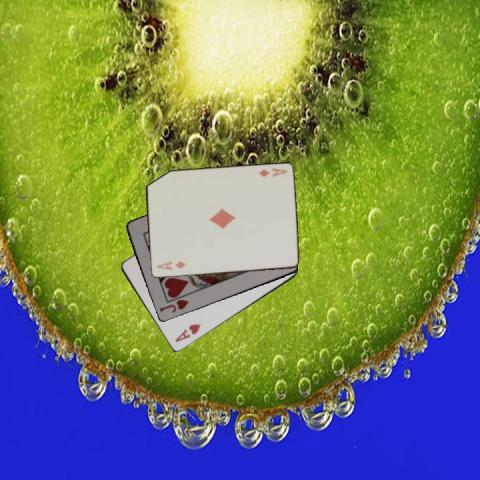Ad: (153, 258, 187, 272), (256, 165, 288, 179)
Ah: (172, 321, 202, 344)
Jh: (157, 296, 190, 314)
